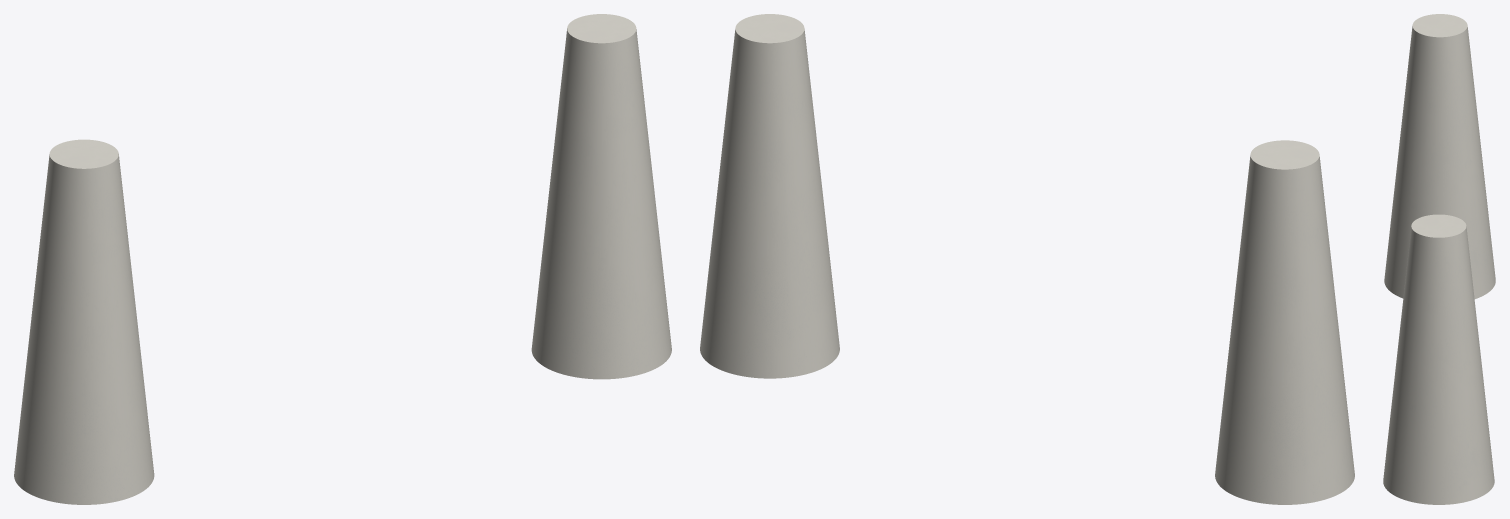
The model's file is pale_danish_standard_pebble.glb.
3 renders of one model, left to right at view 1: azimuth 30°, elevation 25°; view 2: azimuth 150°, elevation 25°; view 3: azimuth 270°, elevation 25°, orthographic. The views are drawn at different scales.
Parts seen in each view (by area): view 1: pebble; view 2: pebble; view 3: pebble.
Part boxes in pixels (x1,y1,x2,y2): pebble: (14,14,671,504); pebble: (700,14,1354,504); pebble: (1383,14,1495,504).
Size of the model in its own units: 5.08 by 2.44 by 0.976.
Materials: 1 (1 with a texture image).
